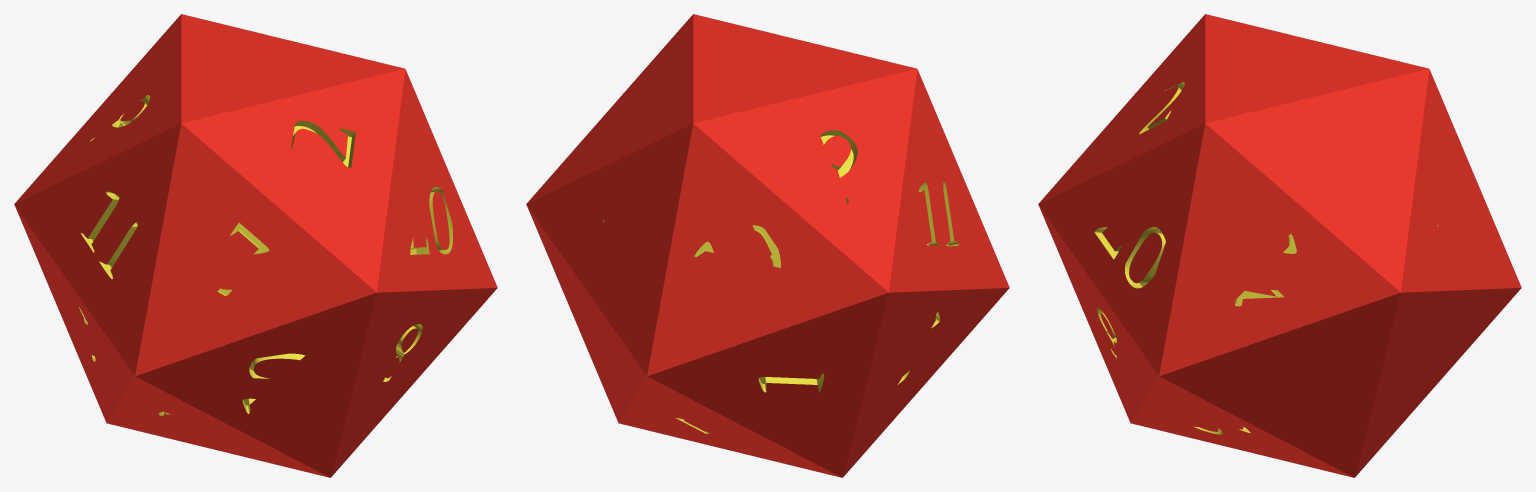
The model's file is backupNumbers.fbx.
3 renders of one model, left to right at view 1: azimuth 30°, elevation 25°; view 2: azimuth 150°, elevation 25°; view 3: azimuth 270°, elevation 25°, orthographic.
Visible parts, largest first — view 1: Base; view 2: Base; view 3: Base.
Part boxes in pixels (x1,y1,x2,y2): Base: (14, 14, 497, 477); Base: (526, 14, 1009, 477); Base: (1038, 14, 1521, 477).
Bounding box in the file's own units: 535 × 500 × 618.
